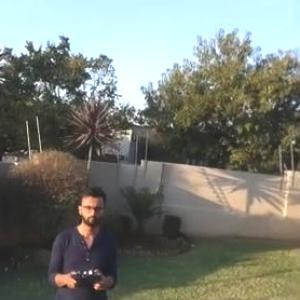follow: (43, 182, 120, 299)
